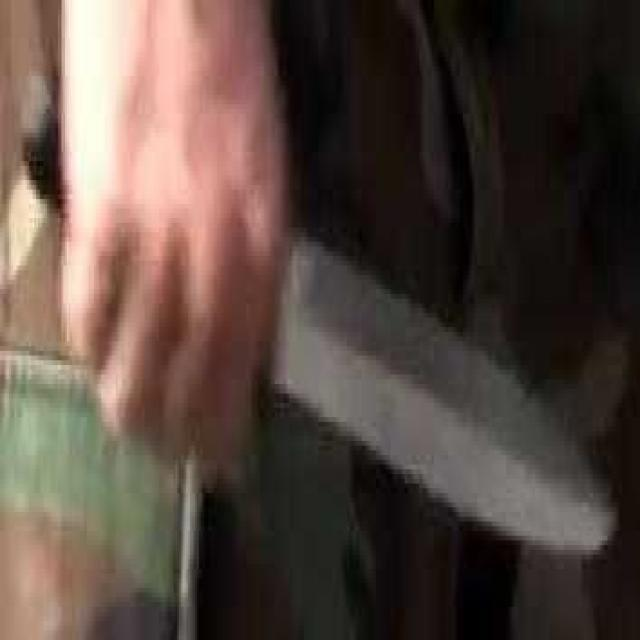knife: (15, 57, 640, 635)
